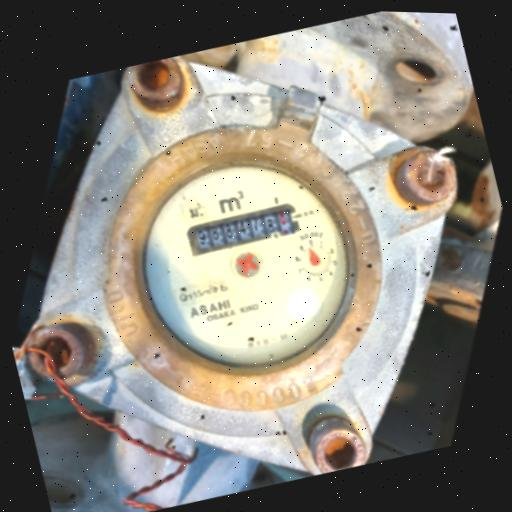4: (236, 217, 251, 239)
7: (249, 213, 264, 236)
8: (276, 209, 292, 235), (209, 224, 224, 246), (263, 211, 278, 233), (223, 221, 237, 243)
9: (195, 226, 211, 249)
border_water_meter_number: (185, 198, 303, 260)
